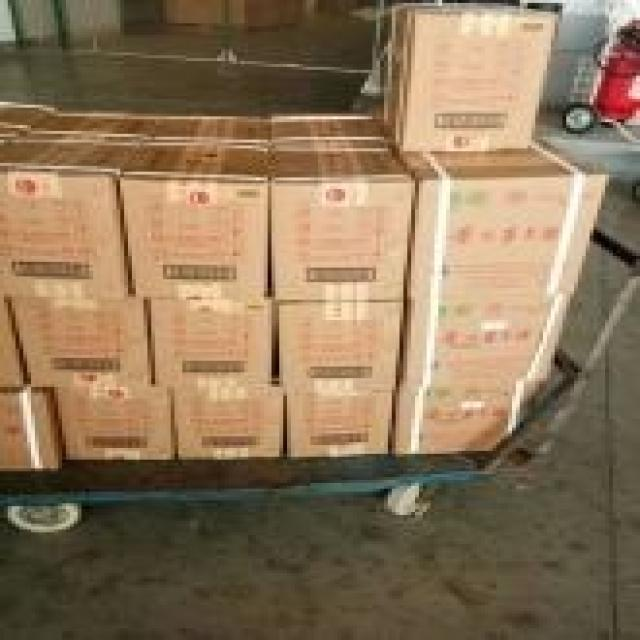box: (400, 134, 609, 300), (0, 108, 163, 297), (116, 113, 272, 300), (268, 113, 419, 300), (384, 0, 559, 151), (400, 300, 570, 384), (8, 297, 155, 387), (392, 378, 551, 454), (275, 300, 411, 387), (147, 297, 275, 384), (54, 387, 178, 460), (283, 387, 396, 460), (175, 384, 283, 460), (0, 384, 62, 471), (0, 99, 54, 157), (0, 297, 31, 390)
